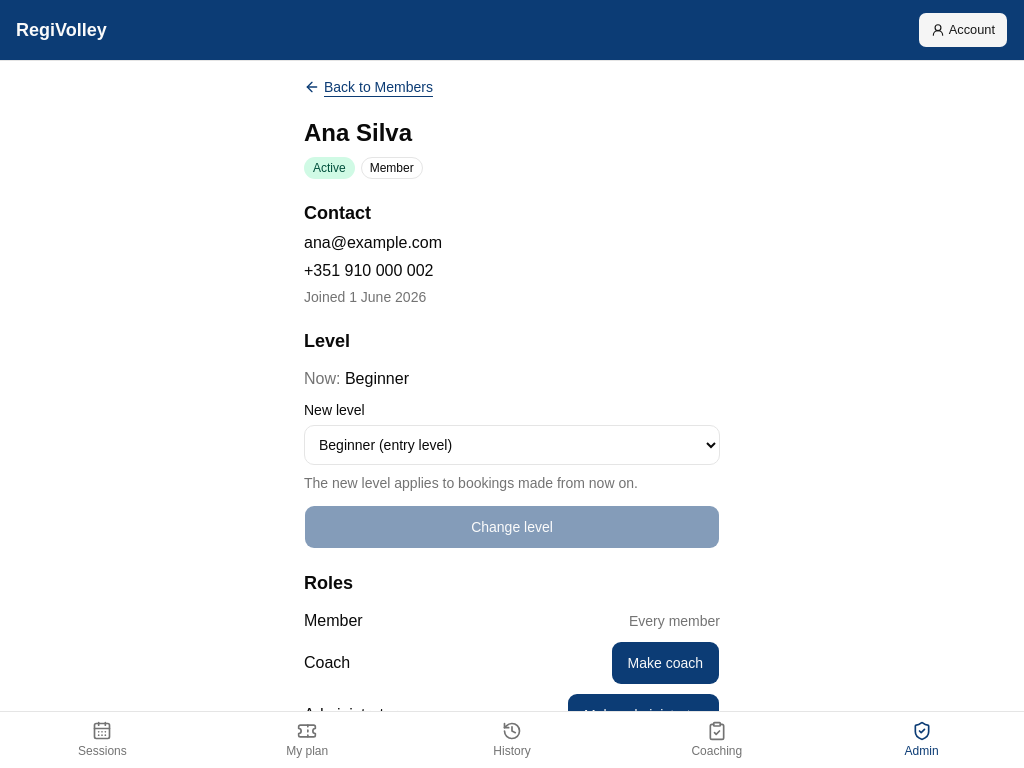
Test: changing the level › sends only the level, reports the outcome and reads the member again
The width and height of the screenshot is (1024, 768).
Check: the heading "Ana Silva" is shown, box left=304, top=119, right=412, bottom=146
Select "Intermediate" in the dropdown labelled "New level" at (512, 445), box left=304, top=425, right=720, bottom=465
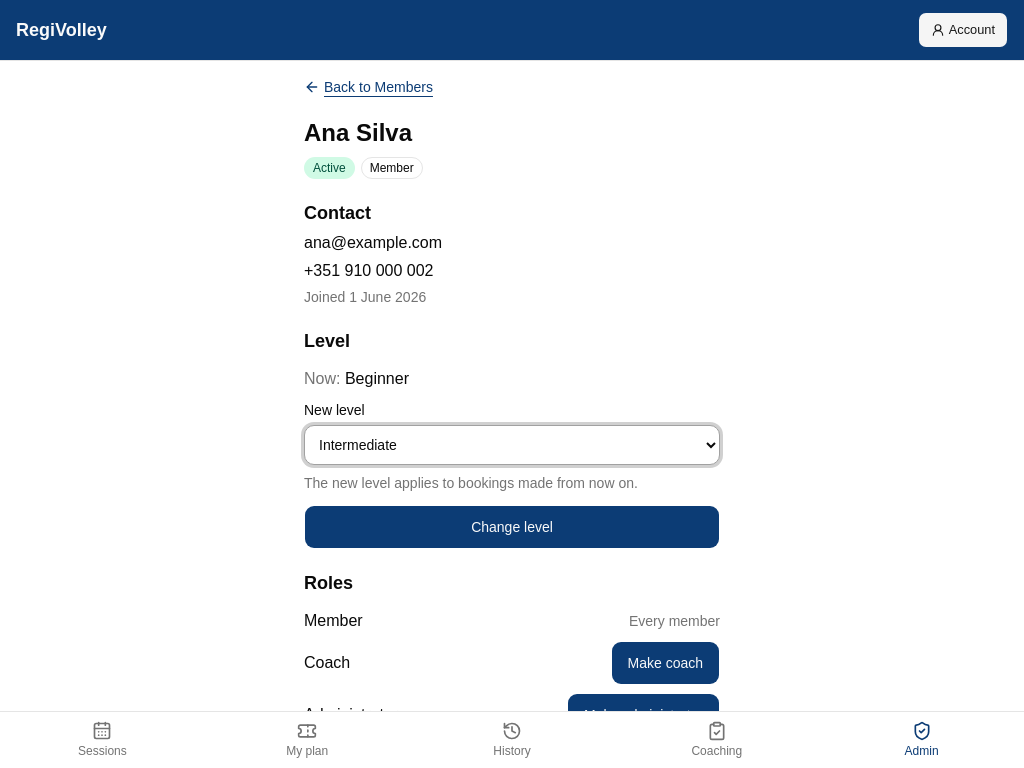
Click the button "Change level" at (512, 527), box left=304, top=505, right=720, bottom=549
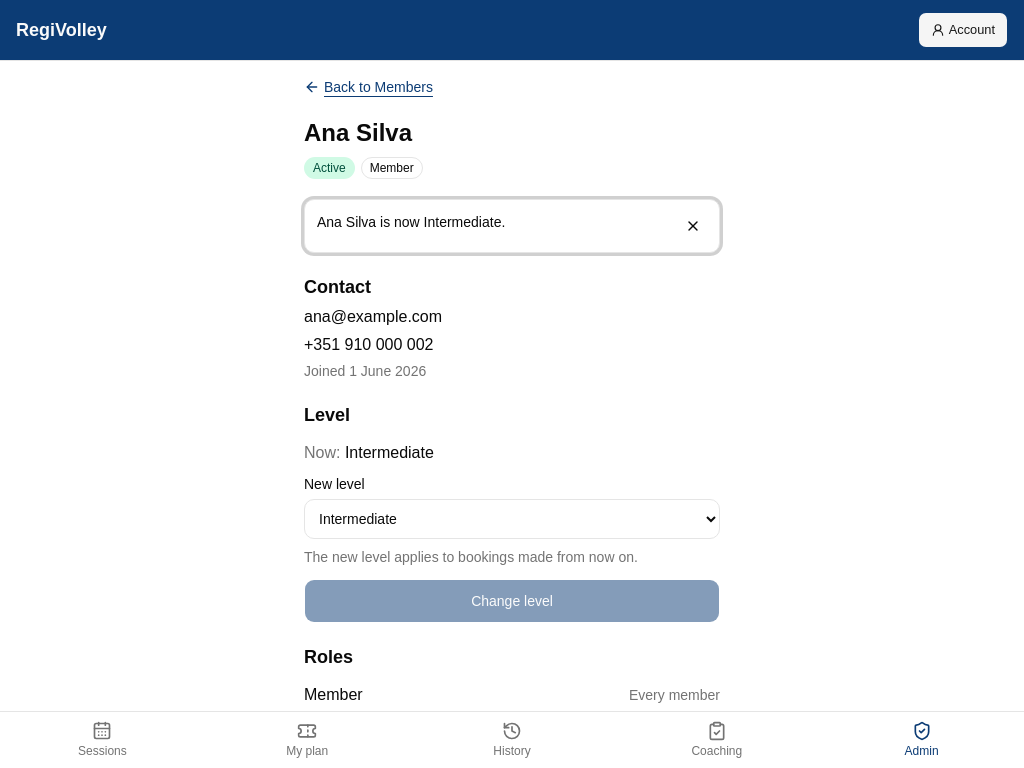
Check: the message reads "Ana Silva is now Intermediate.", box left=317, top=214, right=505, bottom=230
Check: the element "Level" shows "Intermediate", box left=345, top=444, right=434, bottom=461
Check: the button "Change level" is disabled, box left=304, top=579, right=720, bottom=623
